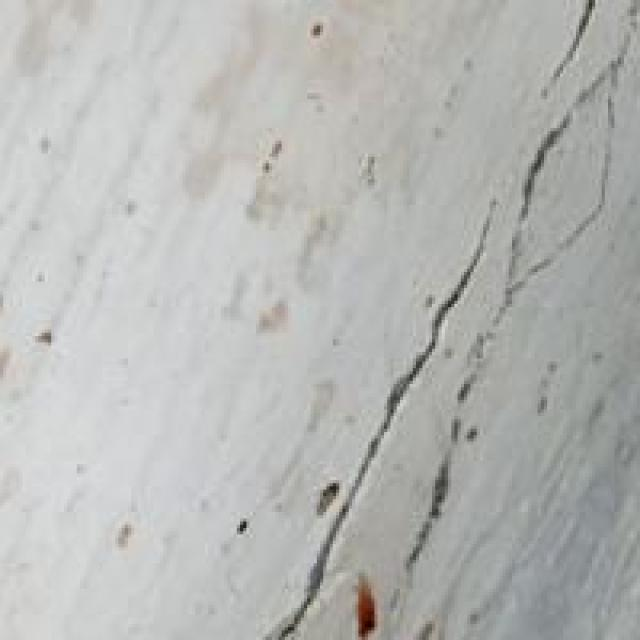SurfaceCrack: (278, 2, 640, 636)
